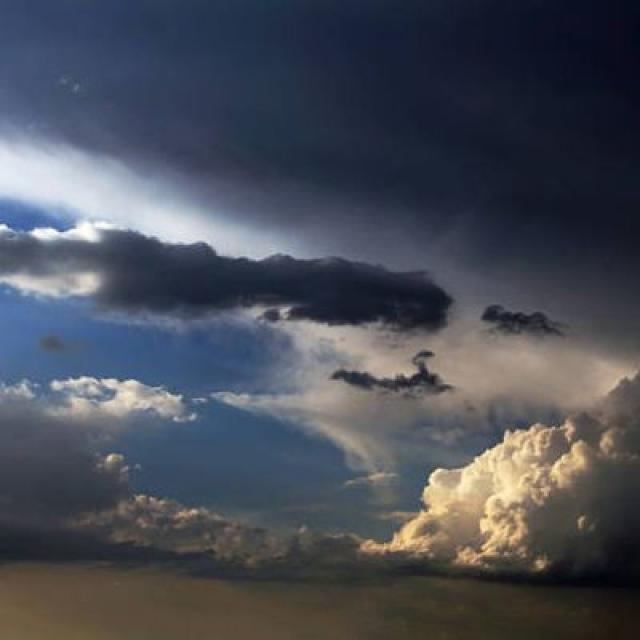Ns: (13, 206, 551, 403)
